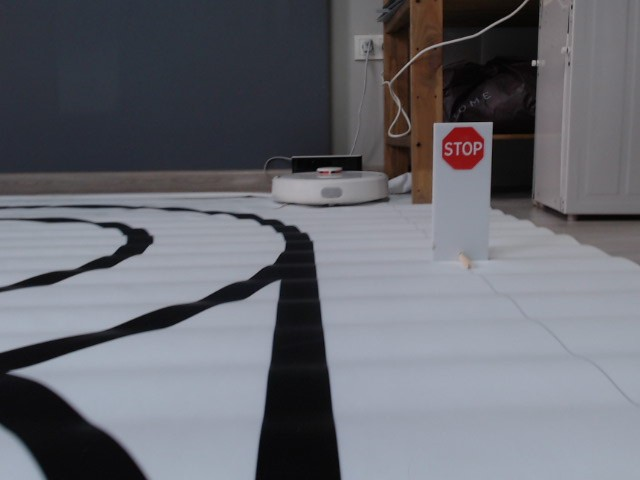Stop: (443, 125, 486, 171)
